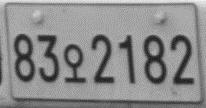1: (118, 33, 136, 84)
2: (169, 34, 195, 85), (90, 33, 114, 83)
3: (36, 34, 59, 82)
8: (142, 34, 167, 84), (13, 33, 35, 82)
오: (62, 43, 86, 83)
